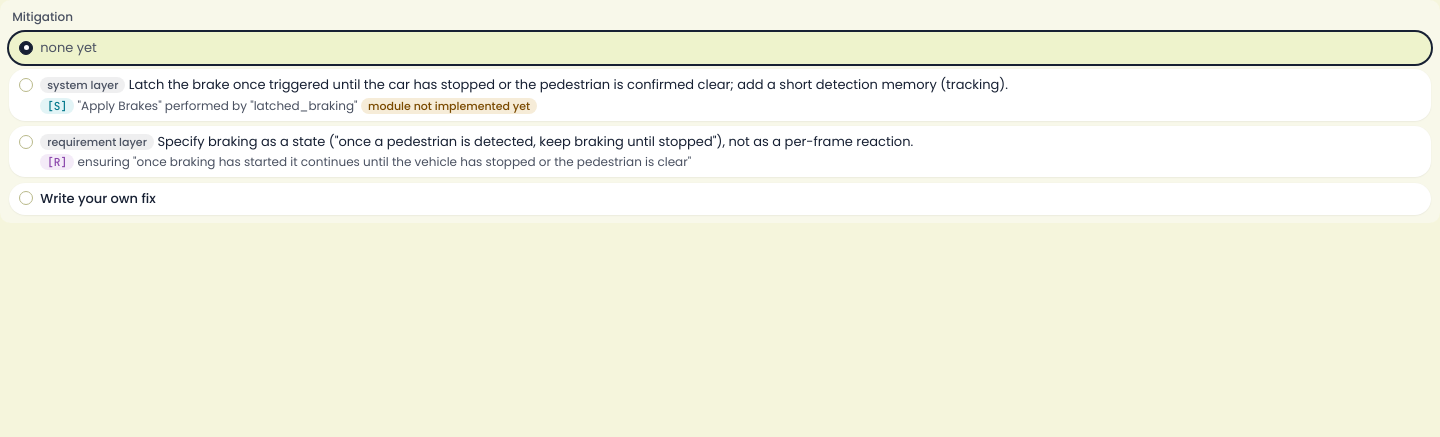
it: MitigationMenu: the fix is editable › writes your own fix on any layer and shows the change it implies
The width and height of the screenshot is (1440, 437).
Step 1. Click the radio button named "Write your own fix" next to "Write your own fix" → (26, 198), box [19, 191, 33, 205]
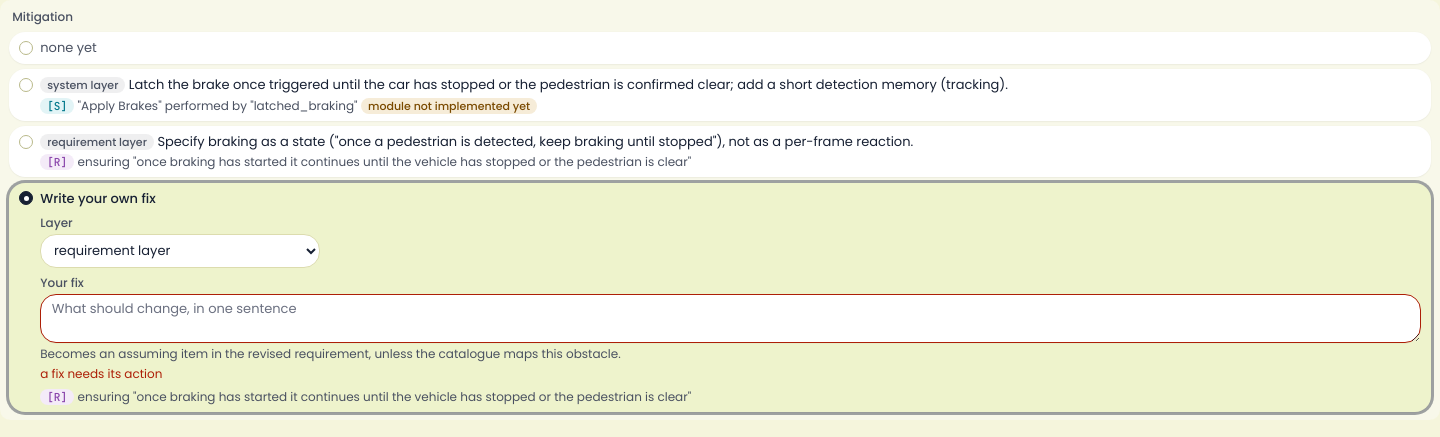
Now the text "a fix needs its action" is shown, box [40, 364, 162, 382]
Step 2. Select "data layer" in the dropdown labelled "Layer" → (180, 251), box [40, 234, 320, 268]
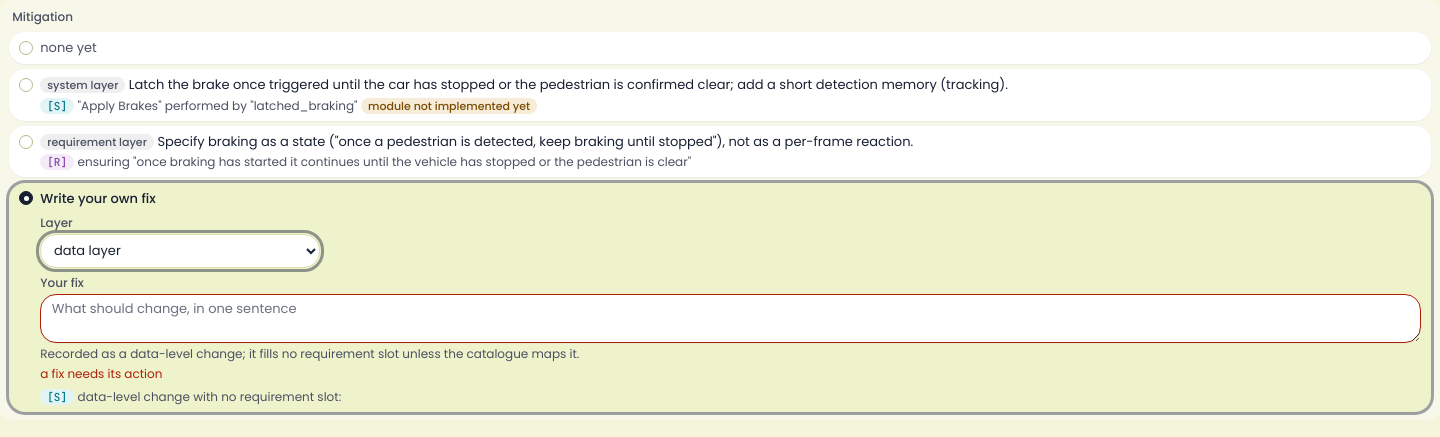
Step 3. Type "more late-braking cases" into the text box labelled "Your fix" → (731, 318), box [40, 294, 1421, 342]
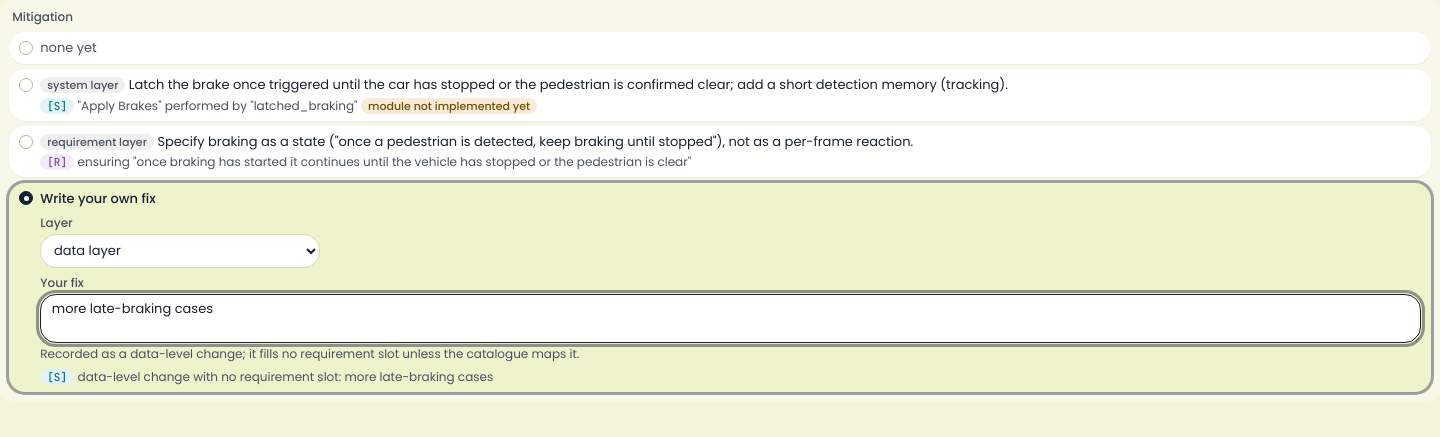
Now the text "data-level change with no requirement slot: more late-braking cases" is shown, box [78, 369, 493, 385]
